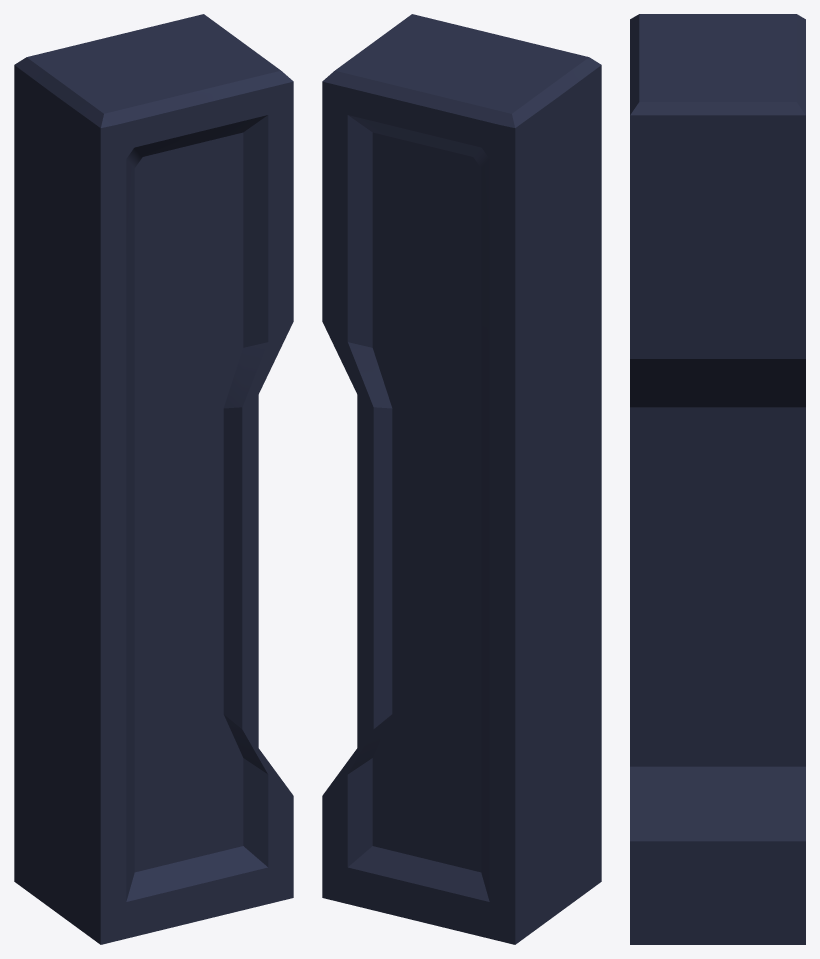
Rendered from Pillar_Short.fbx.
The picture shows the model from 3 angles, left to right: view 1: azimuth 30°, elevation 25°; view 2: azimuth 150°, elevation 25°; view 3: azimuth 270°, elevation 25°; orthographic projection.
Parts seen in each view (by area): view 1: Pillar_Short; view 2: Pillar_Short; view 3: Pillar_Short.
Part boxes in pixels (box(x1,y1,x2,y2)): Pillar_Short: box(14, 14, 293, 944); Pillar_Short: box(322, 14, 601, 944); Pillar_Short: box(630, 14, 805, 944).
Size of the model in its own units: 177 by 725 by 138.
